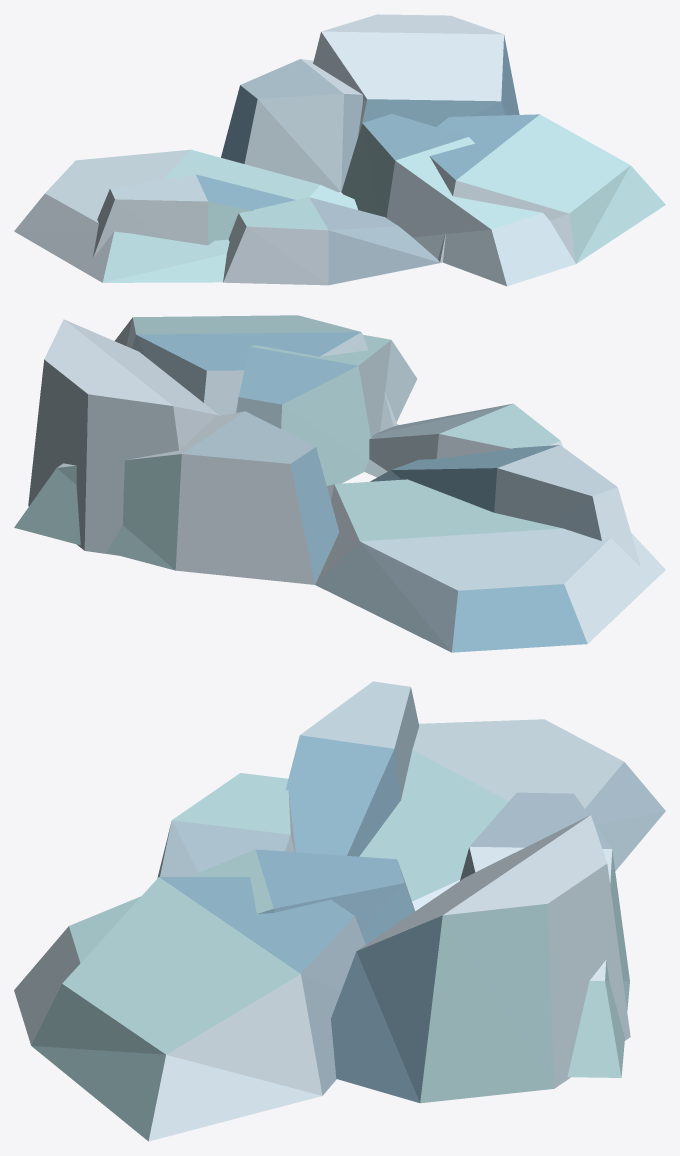
File: Ice Rocks 1.fbx
3 views of the same model, one above another, from view 1: azimuth 30°, elevation 25°; view 2: azimuth 150°, elevation 25°; view 3: azimuth 270°, elevation 25° (orthographic). The views are drawn at different scales.
Visible parts, largest first — view 1: Ice block 7; view 2: Ice block 7; view 3: Ice block 7.
Part boxes in pixels (x1,y1,x2,y2): Ice block 7: [14, 14, 665, 286]; Ice block 7: [14, 315, 665, 652]; Ice block 7: [14, 681, 665, 1141].
Bounding box in the file's own units: 963 × 210 × 689.
